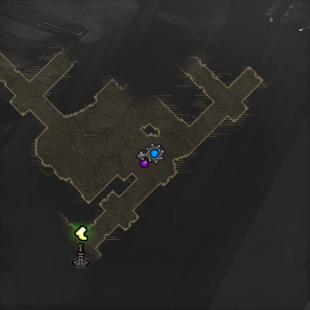SpeedPylon: (72, 223, 91, 269)
